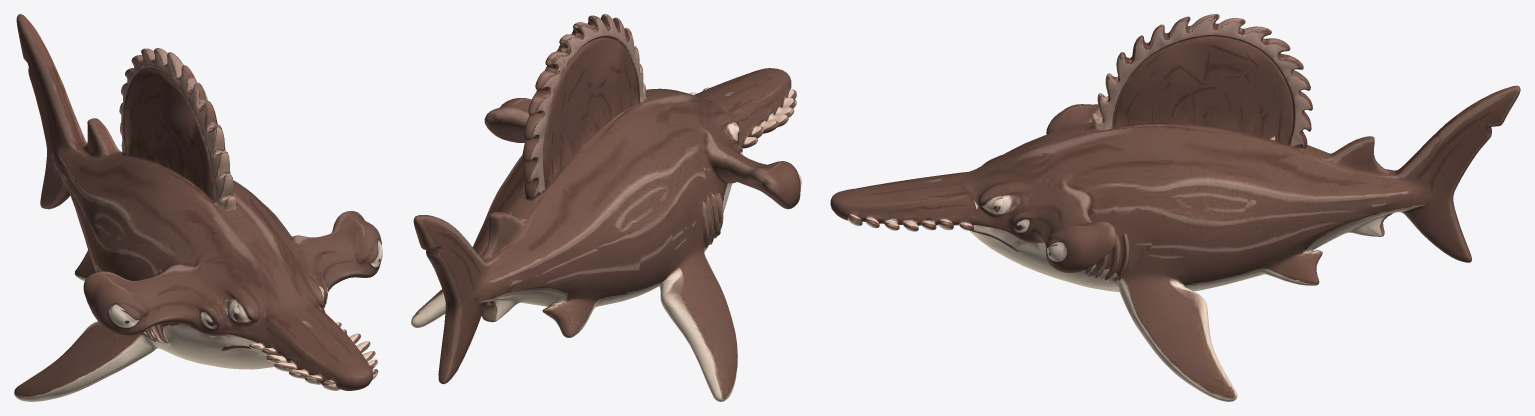
The picture shows the model from 3 angles, left to right: view 1: azimuth 30°, elevation 25°; view 2: azimuth 150°, elevation 25°; view 3: azimuth 270°, elevation 25°; orthographic projection. The views are drawn at different scales.
Visible parts, largest first — view 1: Mesh_0; view 2: Mesh_0; view 3: Mesh_0.
Boxes of the visible parts, x1,y1,x2,y2 form: Mesh_0: (14, 14, 382, 401); Mesh_0: (411, 14, 801, 401); Mesh_0: (830, 14, 1520, 401).
Bounding box in the file's own units: 0.9452 × 0.9627 × 1.9.
Materials: 1 (1 with a texture image).
